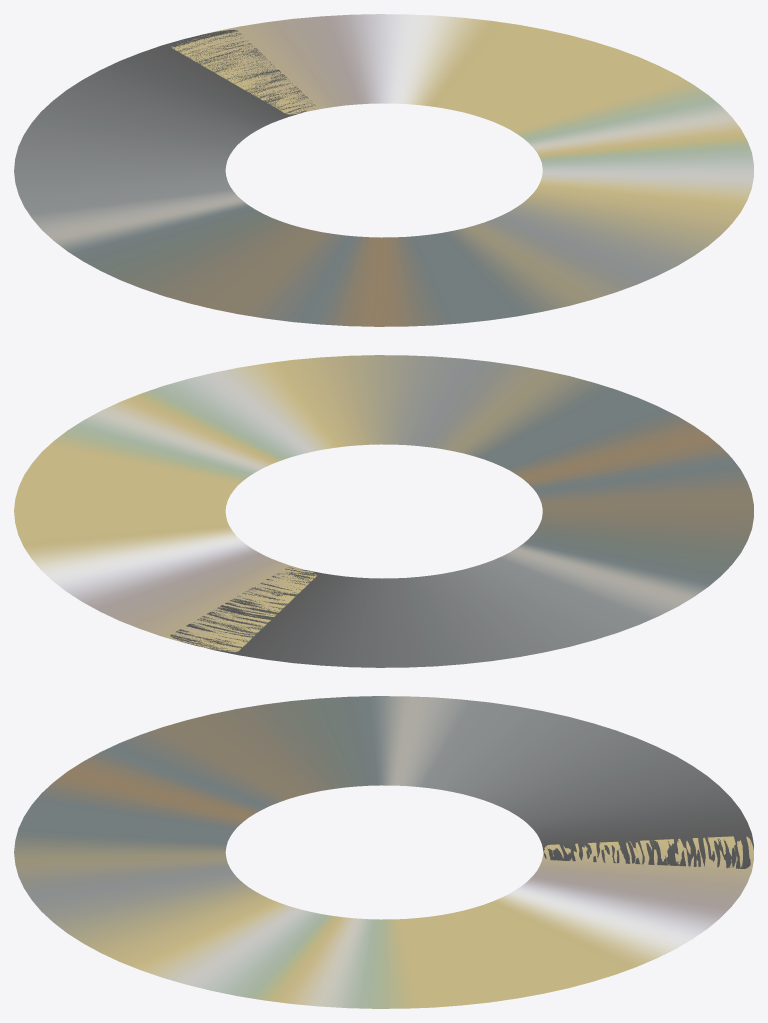
The model's file is SaturnRing.glb.
3 views of the same model, one above another, from view 1: azimuth 30°, elevation 25°; view 2: azimuth 150°, elevation 25°; view 3: azimuth 270°, elevation 25° (orthographic).
Parts seen in each view (by area): view 1: Plane; view 2: Plane; view 3: Plane.
Boxes of the visible parts, x1,y1,x2,y2 form: Plane: (14, 14, 753, 326); Plane: (14, 355, 753, 667); Plane: (14, 696, 753, 1008).
Size of the model in its own units: 7 by 5.09e-07 by 6.99.
1 material, 1 textured.
